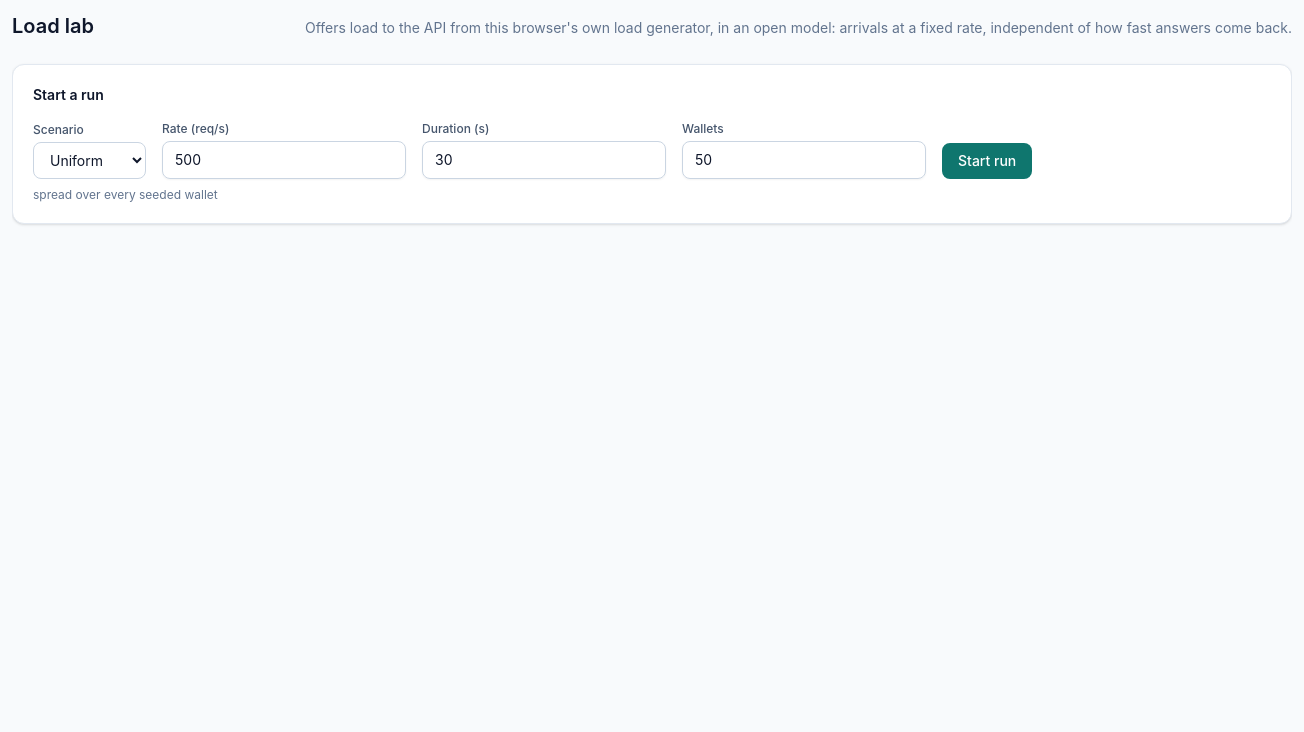
Test: LoadLabPage › dropped arrivals are shown
Replace the text in the field labelled "Duration (s)" with "5": (544, 160) [422,141,666,179]
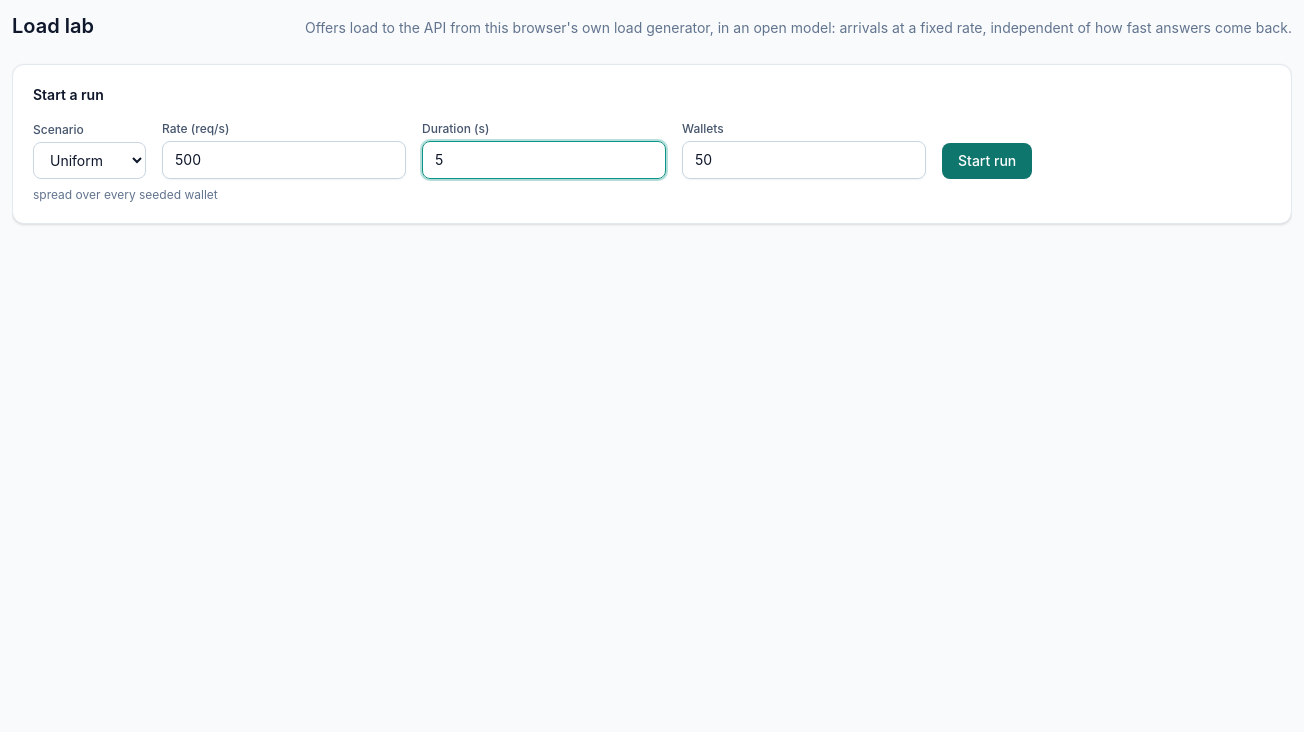
Click the button "Start run": (987, 161) [942,143,1032,179]
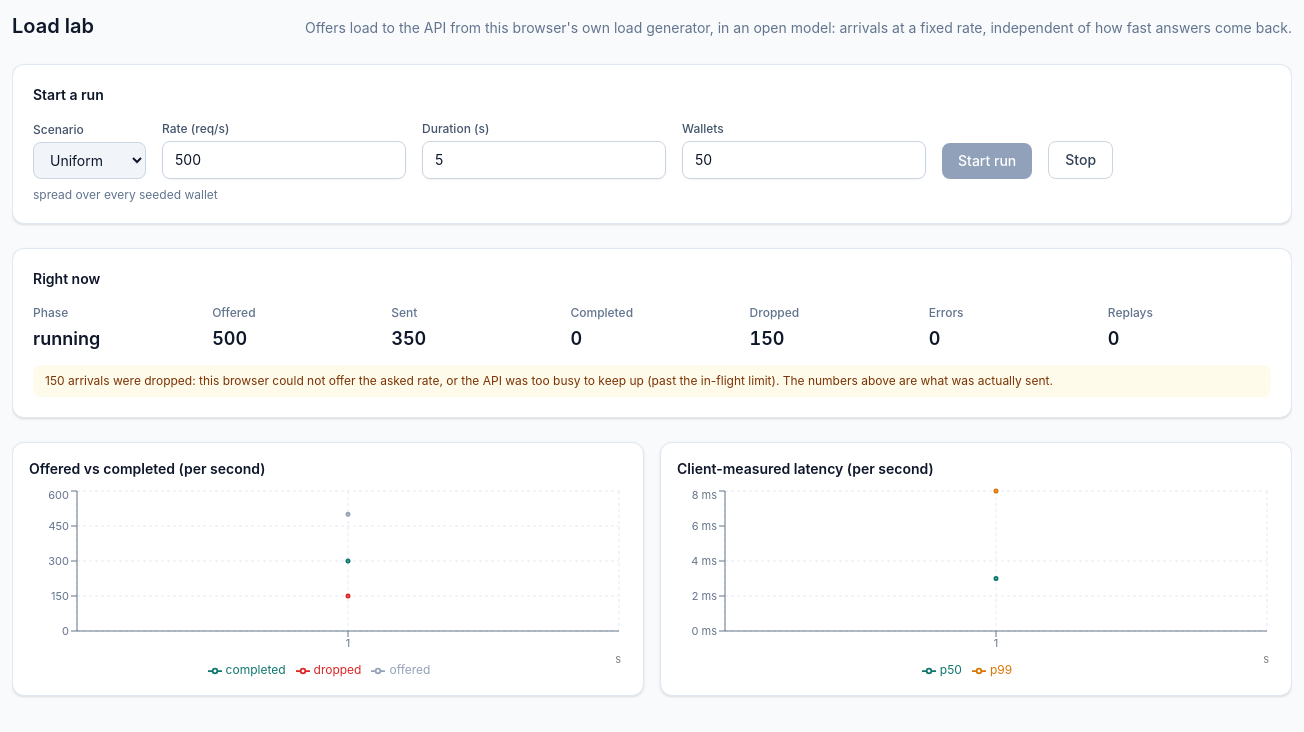
Check: the text "150 arrivals were dropped" is shown, box [33,365,1271,397]
